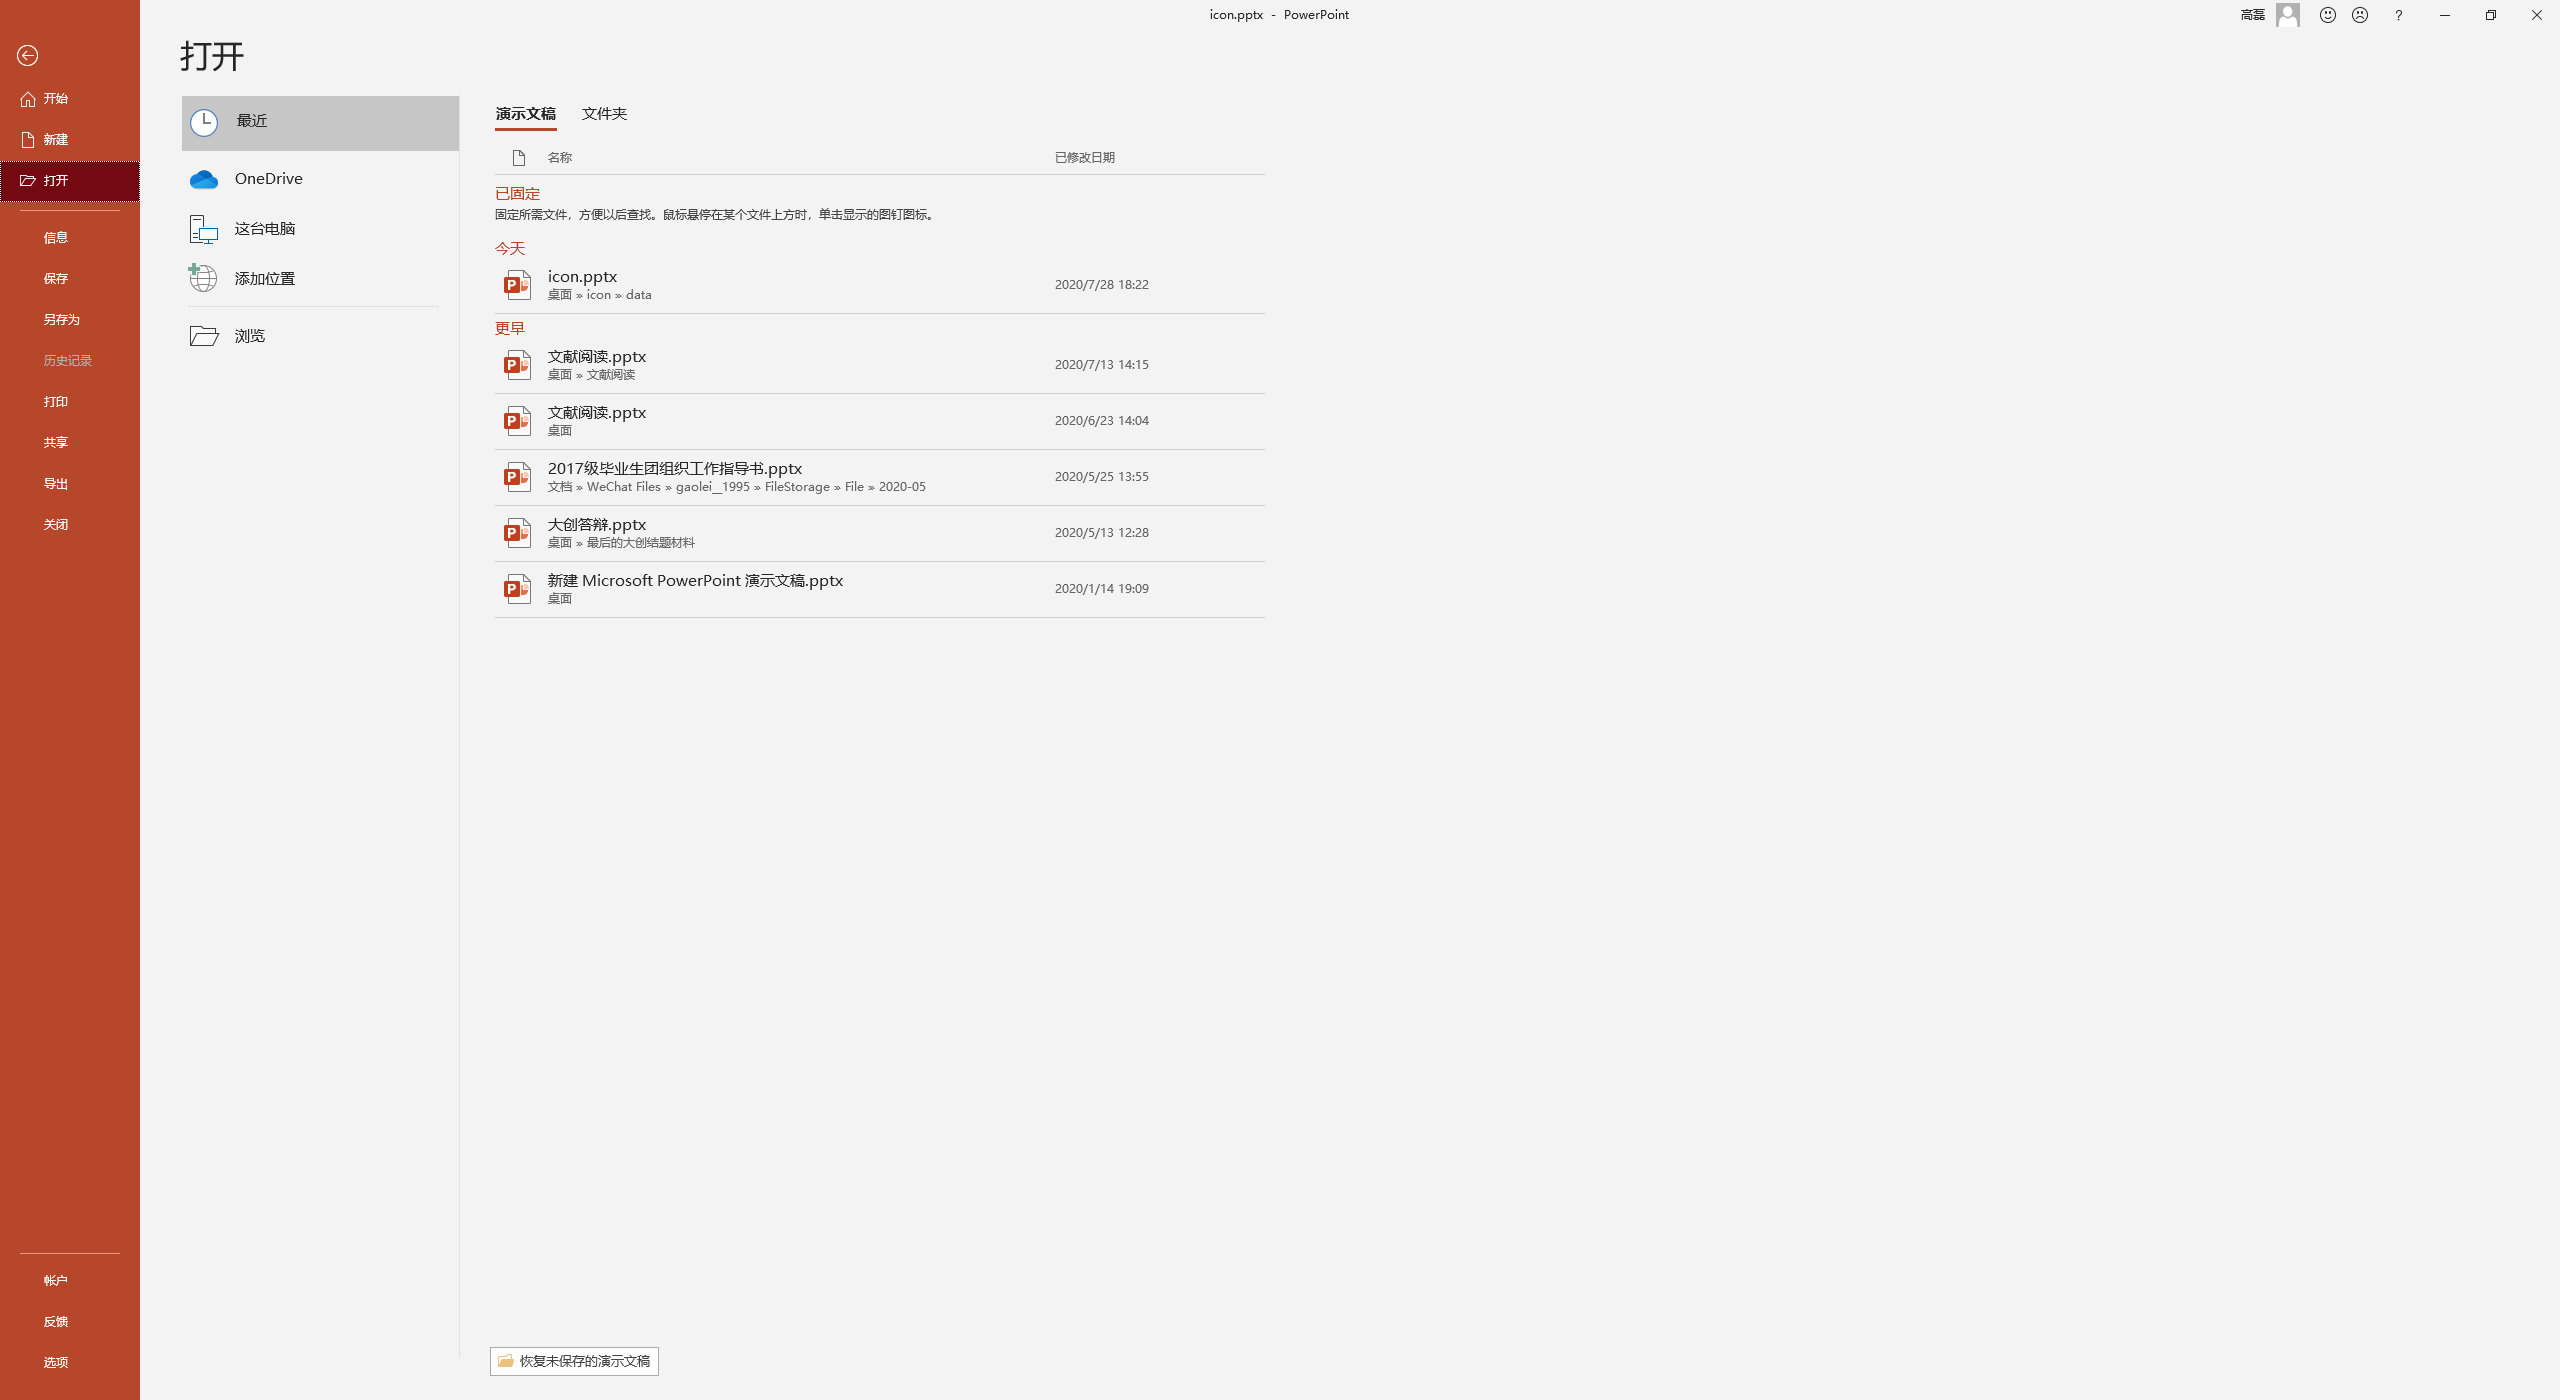character: (491, 203, 933, 228), (550, 479, 933, 497), (546, 572, 846, 590), (546, 459, 815, 478), (1200, 5, 1357, 22), (548, 534, 700, 550), (178, 38, 245, 72), (521, 1352, 652, 1367), (1050, 276, 1153, 295), (546, 288, 660, 305), (1046, 522, 1152, 540), (548, 403, 652, 421), (545, 516, 648, 533), (546, 348, 648, 366), (1050, 414, 1158, 429), (1050, 357, 1155, 372), (1052, 581, 1153, 597), (1053, 467, 1153, 483), (545, 267, 629, 284), (552, 367, 641, 383), (236, 267, 298, 288), (234, 171, 307, 188), (496, 103, 560, 122), (1053, 147, 1117, 166), (236, 221, 295, 240), (583, 103, 631, 122), (41, 353, 97, 369), (493, 184, 546, 200), (40, 1271, 74, 1290), (40, 472, 72, 491), (234, 326, 269, 343), (548, 590, 579, 609), (41, 314, 83, 328), (495, 319, 528, 336), (40, 395, 74, 410), (236, 112, 267, 129), (496, 240, 528, 257), (43, 228, 71, 247), (43, 1353, 71, 1372), (40, 517, 72, 533), (543, 422, 578, 436), (43, 90, 71, 105), (41, 133, 72, 147), (43, 434, 71, 450), (2238, 5, 2265, 21), (548, 148, 572, 166), (45, 172, 72, 186), (41, 1314, 69, 1328), (41, 272, 71, 284)
icon: (498, 402, 534, 440), (500, 514, 534, 552), (500, 345, 533, 384), (500, 457, 533, 497), (184, 105, 221, 140), (500, 266, 533, 303), (500, 571, 533, 609), (184, 260, 219, 295), (188, 216, 217, 245), (2274, 2, 2301, 28), (188, 322, 217, 347), (190, 169, 217, 190), (2315, 3, 2339, 24), (16, 45, 38, 66), (2350, 3, 2370, 24), (495, 1350, 515, 1369), (17, 129, 36, 148), (2434, 5, 2455, 22), (17, 171, 36, 188), (2389, 5, 2408, 22), (19, 90, 36, 107), (510, 148, 528, 166), (2527, 5, 2544, 22), (2482, 7, 2498, 21)
